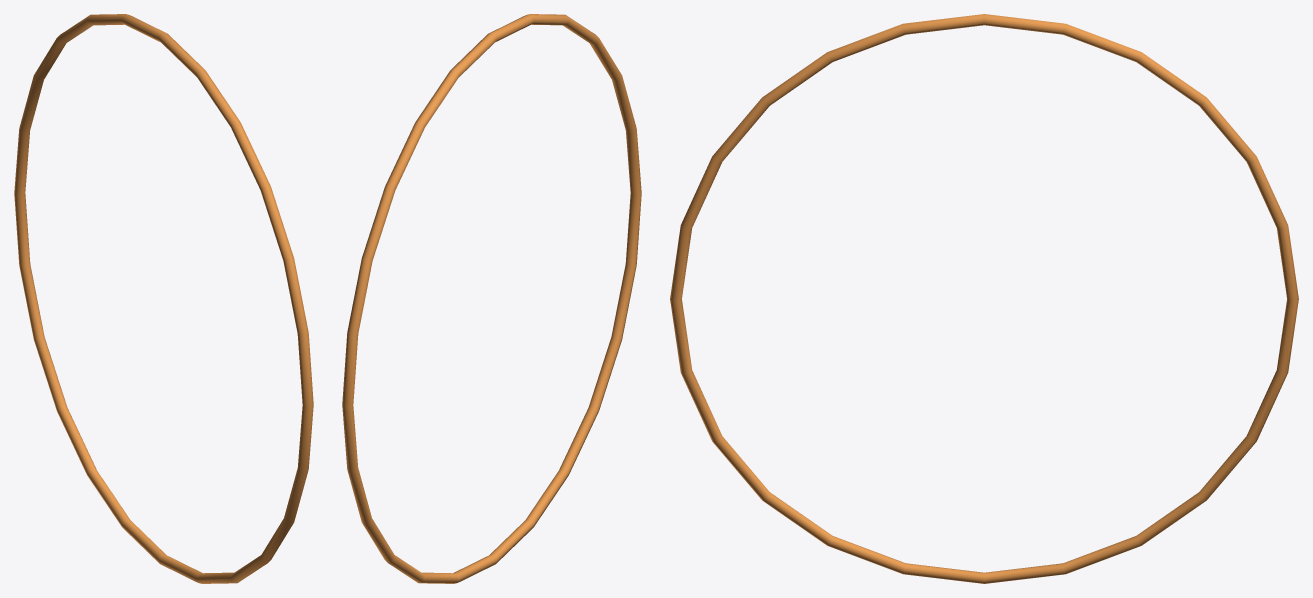
The model's file is LVR_Props_Hoop.fbx.
3 renders of one model, left to right at view 1: azimuth 30°, elevation 25°; view 2: azimuth 150°, elevation 25°; view 3: azimuth 270°, elevation 25°, orthographic. The views are drawn at different scales.
Parts seen in each view (by area): view 1: Hula Hoop; view 2: Hula Hoop; view 3: Hula Hoop.
Part boxes in pixels (x1,y1,x2,y2): Hula Hoop: (14, 14, 313, 583); Hula Hoop: (342, 14, 641, 583); Hula Hoop: (670, 14, 1298, 583).
Bounding box in the file's own units: 3.9 × 204 × 204.
